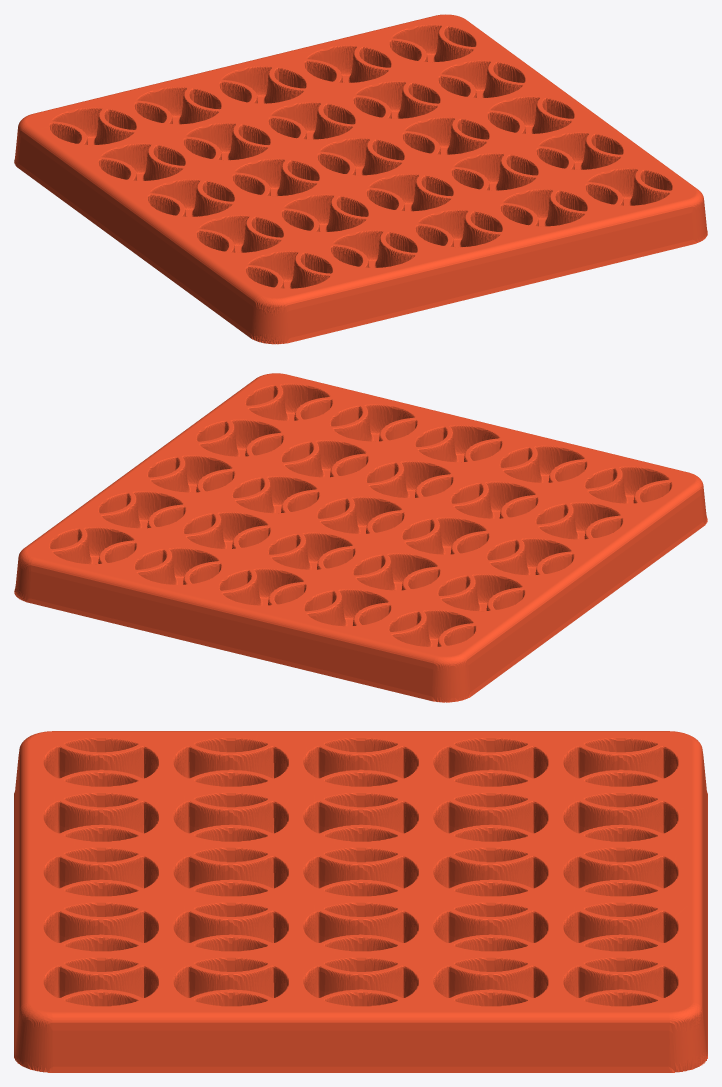
Rendered from mold.glb.
3 renders of one model, top to bottom at view 1: azimuth 30°, elevation 25°; view 2: azimuth 150°, elevation 25°; view 3: azimuth 270°, elevation 25°, orthographic. The views are drawn at different scales.
Visible parts, largest first — view 1: geometry_0; view 2: geometry_0; view 3: geometry_0.
Boxes of the visible parts, box(x1,y1,x2,y2) form: geometry_0: box(14, 14, 707, 344); geometry_0: box(14, 373, 707, 702); geometry_0: box(14, 731, 707, 1072).
Bounding box in the file's own units: 0.1584 × 0.0136 × 0.1584.
